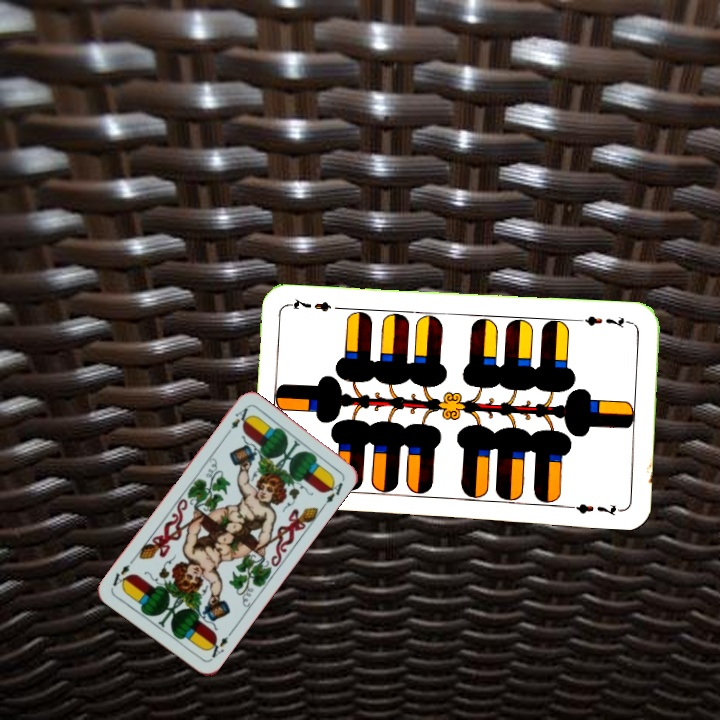E7: (575, 312, 634, 331)
EA: (203, 627, 235, 662), (221, 404, 250, 439)
